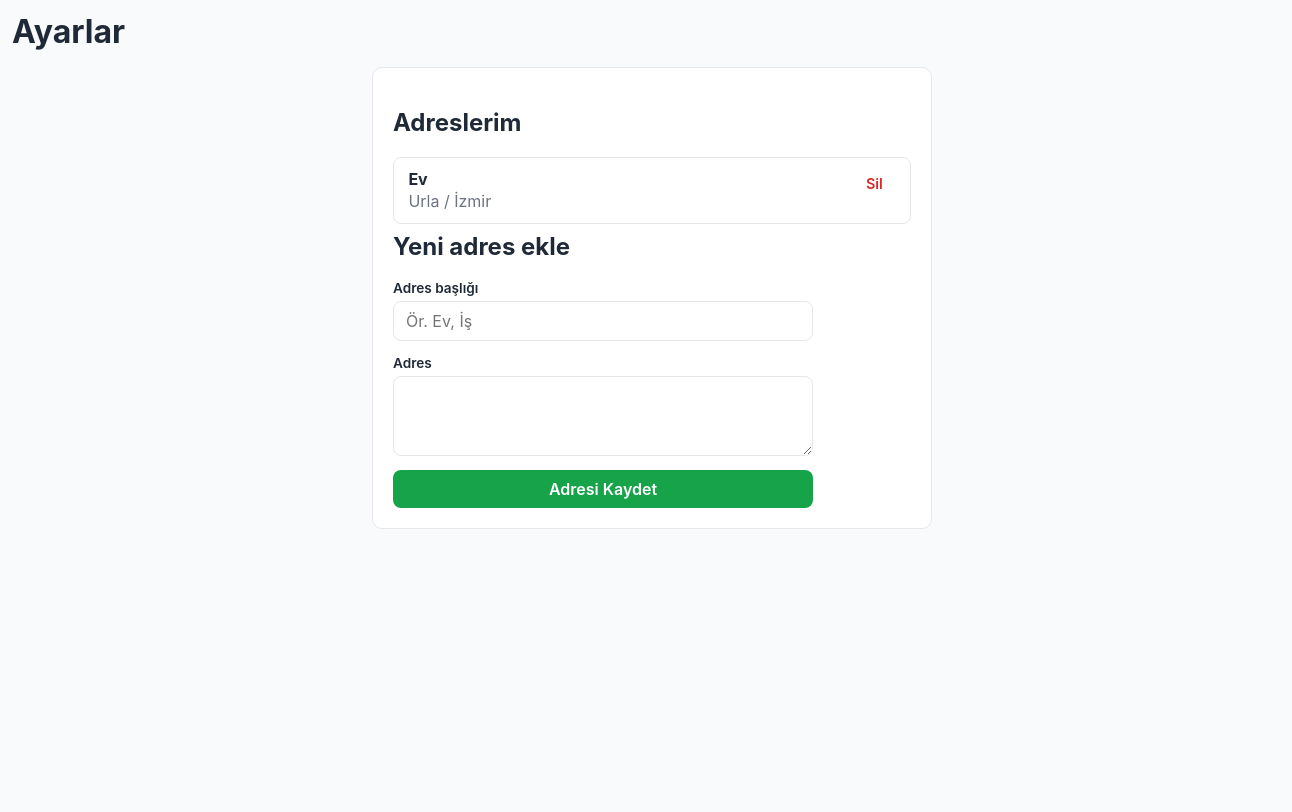
Settings — adres yönetimi › ekleme başarısız olursa hata gösterir ve liste değişmez
Expected: the text "Ev" is shown, [408, 169, 428, 189]
Type "İş" into the field labelled "Adres başlığı" at (603, 321), box [393, 301, 813, 341]
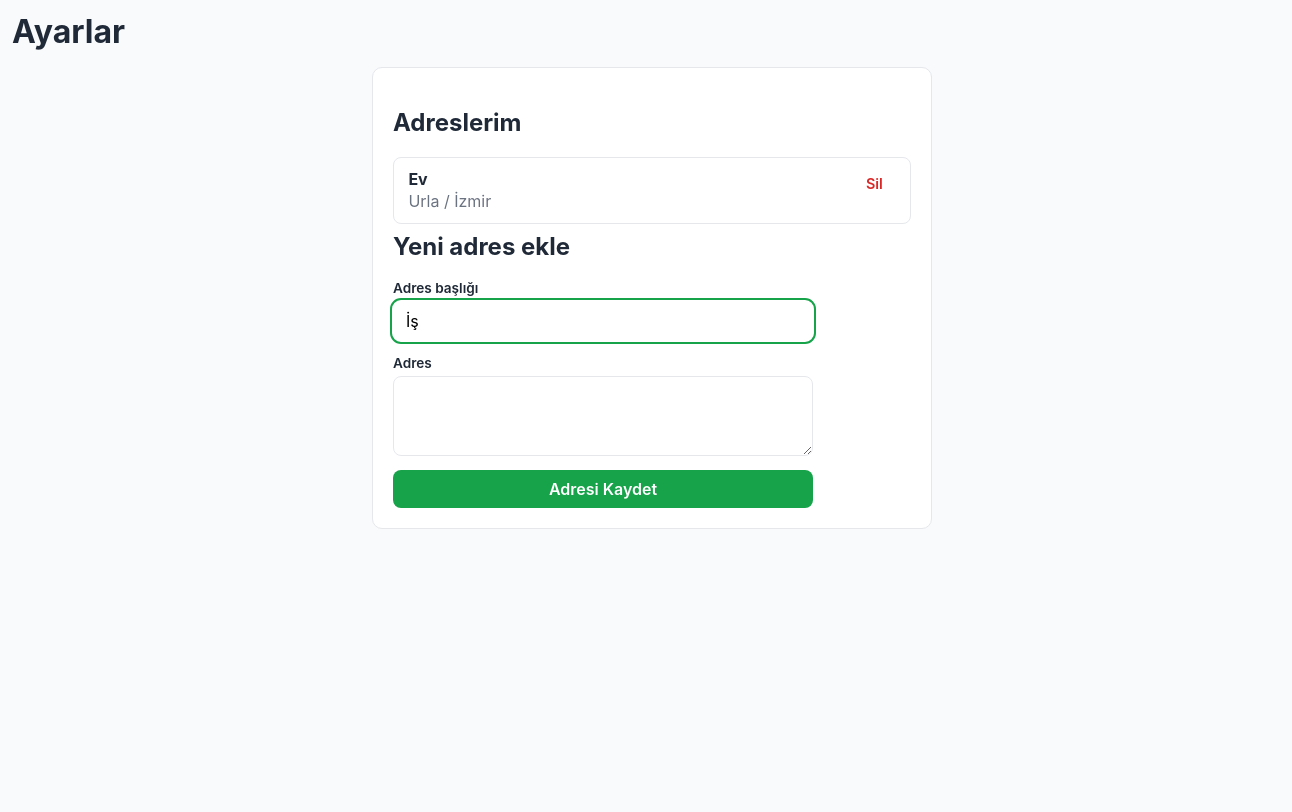
Type "Gebze / Kocaeli" into the text box labelled "Adres" at (603, 416), box [393, 376, 813, 456]
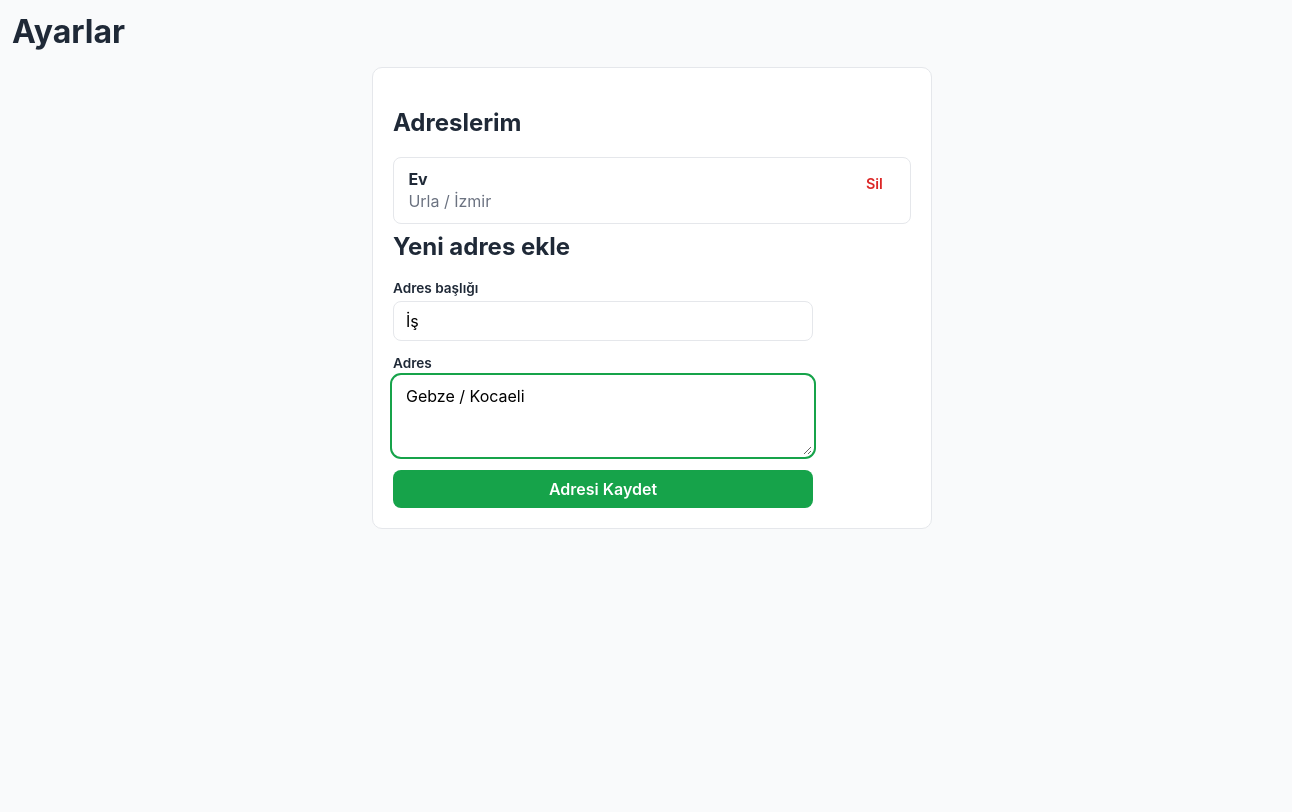
Click the button "Adresi Kaydet" at (603, 489), box [393, 470, 813, 508]
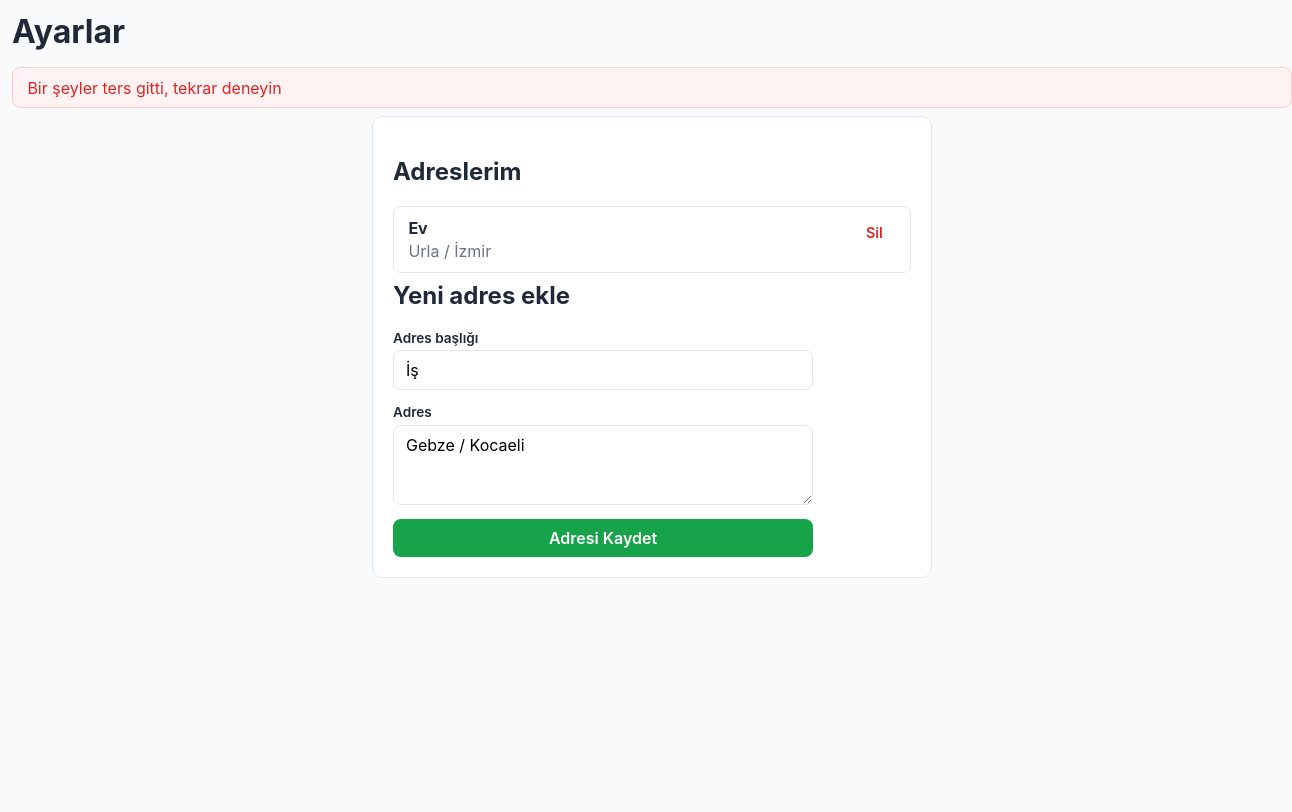
Expected: the message reads "Bir şeyler ters gitti, tekrar deneyin", [27, 78, 282, 98]
